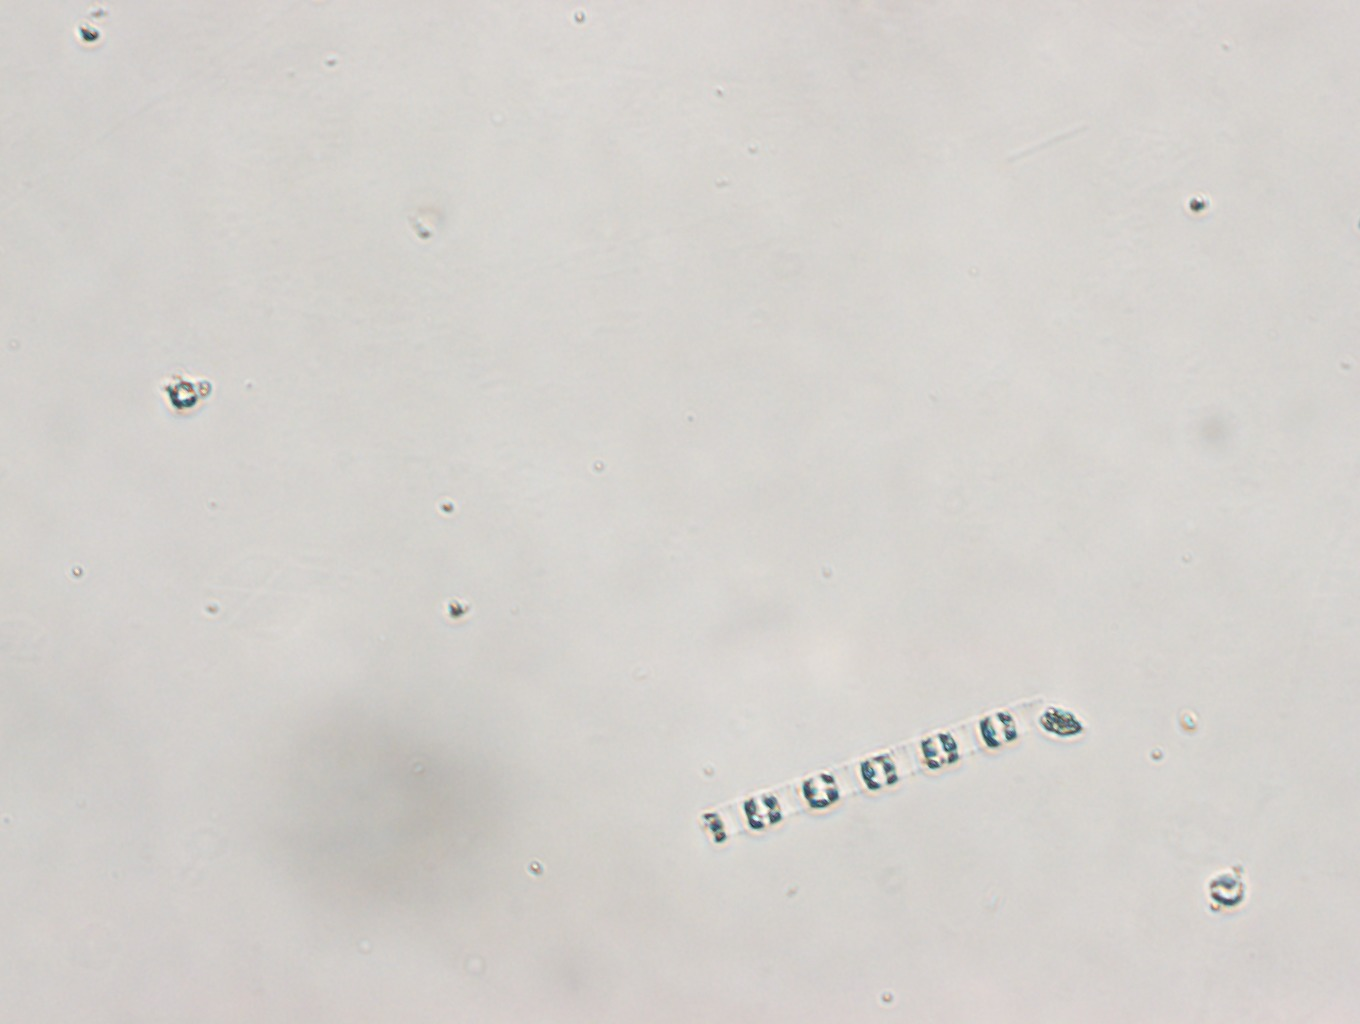skeletonema: (688, 693, 1037, 850)
